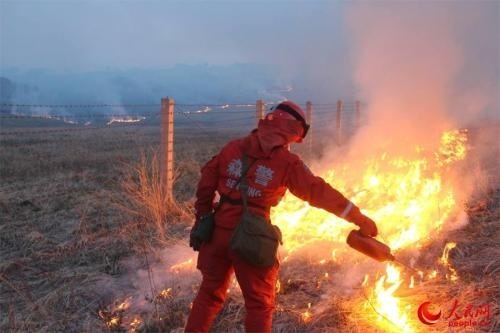fire: (272, 124, 469, 262), (368, 262, 415, 327), (99, 296, 141, 330), (170, 255, 198, 271)
